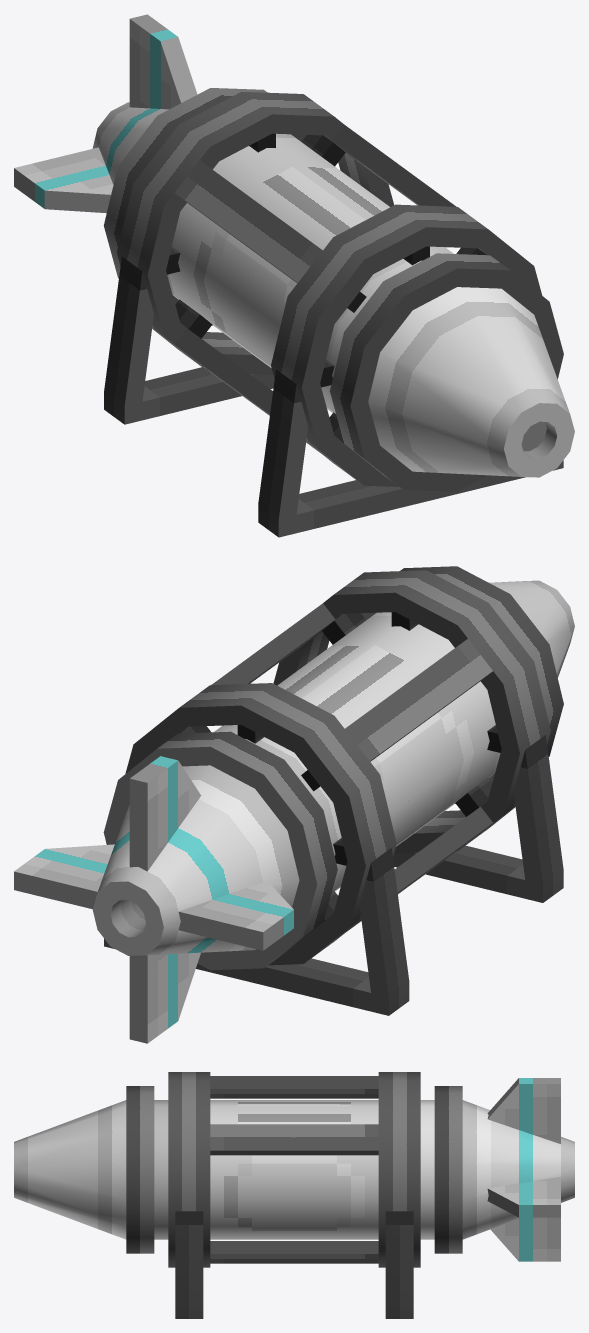
File: nuke_fleija.obj
3 renders of one model, top to bottom at view 1: azimuth 30°, elevation 25°; view 2: azimuth 150°, elevation 25°; view 3: azimuth 270°, elevation 25°, orthographic. The views are drawn at different scales.
Visible parts, largest first — view 1: Cylinder.001; view 2: Cylinder.001; view 3: Cylinder.001.
Part boxes in pixels (<box>): Cylinder.001: <box>14,14,574,537</box>; Cylinder.001: <box>14,566,574,1043</box>; Cylinder.001: <box>14,1072,574,1318</box>.
Bounding box in the file's own units: 1 × 0.9375 × 2.5.
